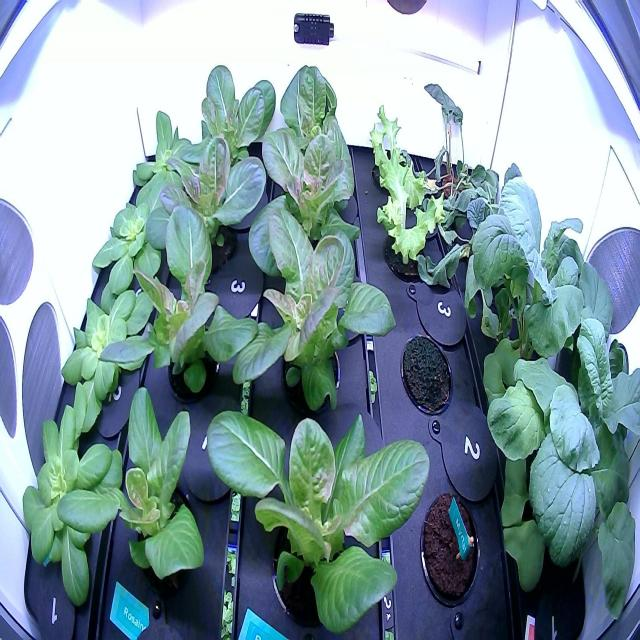pod: (414, 475, 488, 616), (392, 322, 459, 424)
young: (195, 373, 438, 640), (92, 184, 268, 437), (214, 197, 404, 430), (47, 376, 222, 618), (17, 375, 128, 622), (136, 117, 274, 302), (242, 103, 371, 294), (41, 269, 168, 453), (165, 46, 282, 206), (81, 165, 180, 310), (266, 45, 357, 170), (123, 91, 210, 218)
